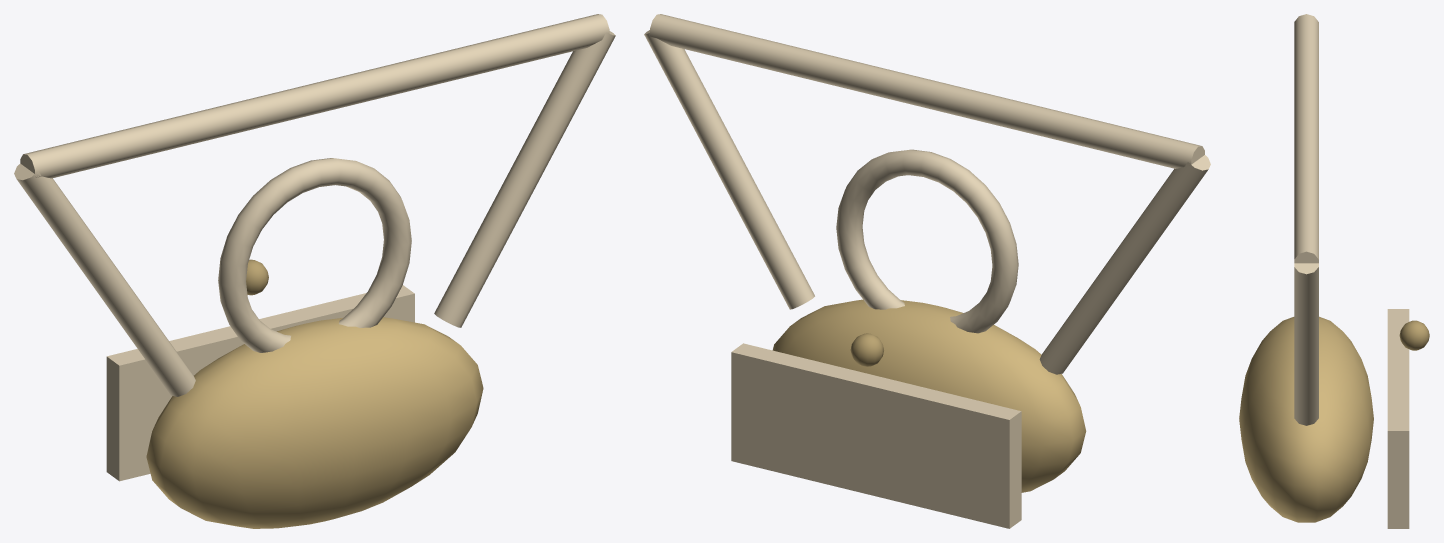
File: VM-DAM-SH36525371.glb
3 renders of one model, left to right at view 1: azimuth 30°, elevation 25°; view 2: azimuth 150°, elevation 25°; view 3: azimuth 270°, elevation 25°, orthographic. The views are drawn at different scales.
Visible parts, largest first — view 1: Bolso Tote Leopardo Gran Capacidad; view 2: Bolso Tote Leopardo Gran Capacidad; view 3: Bolso Tote Leopardo Gran Capacidad.
Boxes of the visible parts, left/top/right/bottom form: Bolso Tote Leopardo Gran Capacidad: left=14, top=14, right=615, bottom=528; Bolso Tote Leopardo Gran Capacidad: left=644, top=14, right=1210, bottom=528; Bolso Tote Leopardo Gran Capacidad: left=1239, top=14, right=1429, bottom=528.
Bounding box in the file's own units: 0.5348 × 0.3699 × 0.1746.
